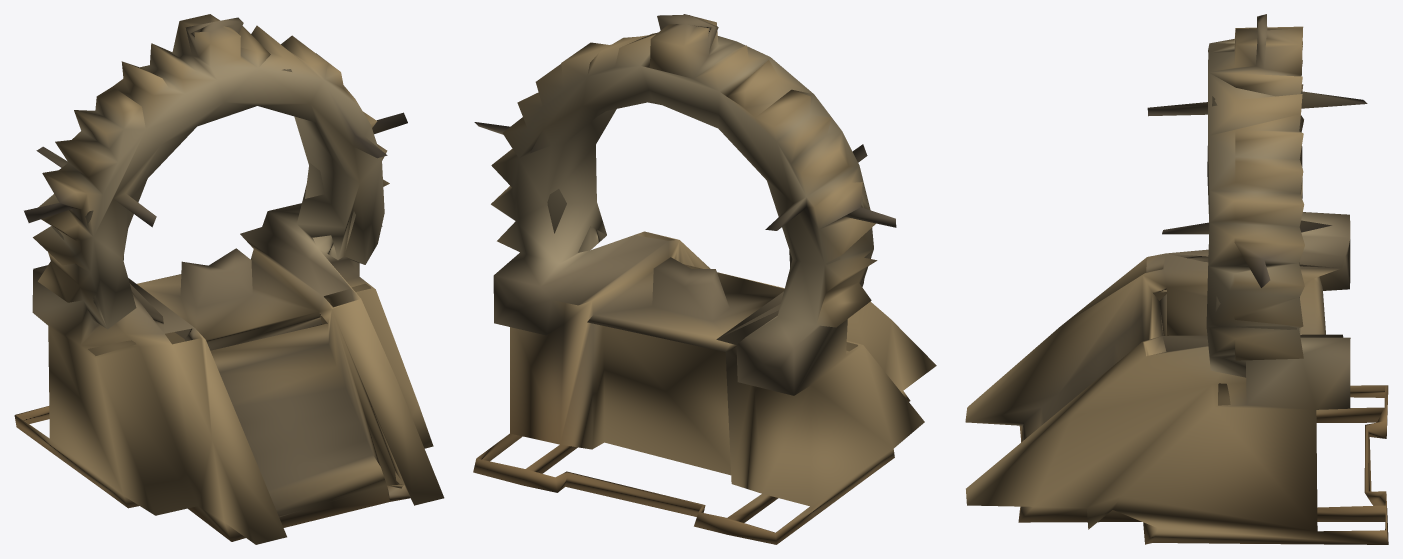
The model's file is ruina_altar_lejos.glb.
3 views of the same model, side by side, from view 1: azimuth 30°, elevation 25°; view 2: azimuth 150°, elevation 25°; view 3: azimuth 270°, elevation 25° (orthographic). The views are drawn at different scales.
Visible parts, largest first — view 1: ruina_altar_lejos; view 2: ruina_altar_lejos; view 3: ruina_altar_lejos.
Part boxes in pixels (x1,y1,x2,y2): ruina_altar_lejos: (14,14,444,544); ruina_altar_lejos: (473,14,936,544); ruina_altar_lejos: (965,14,1388,544).
Bounding box in the file's own units: 1.97 × 2.03 × 1.74.
